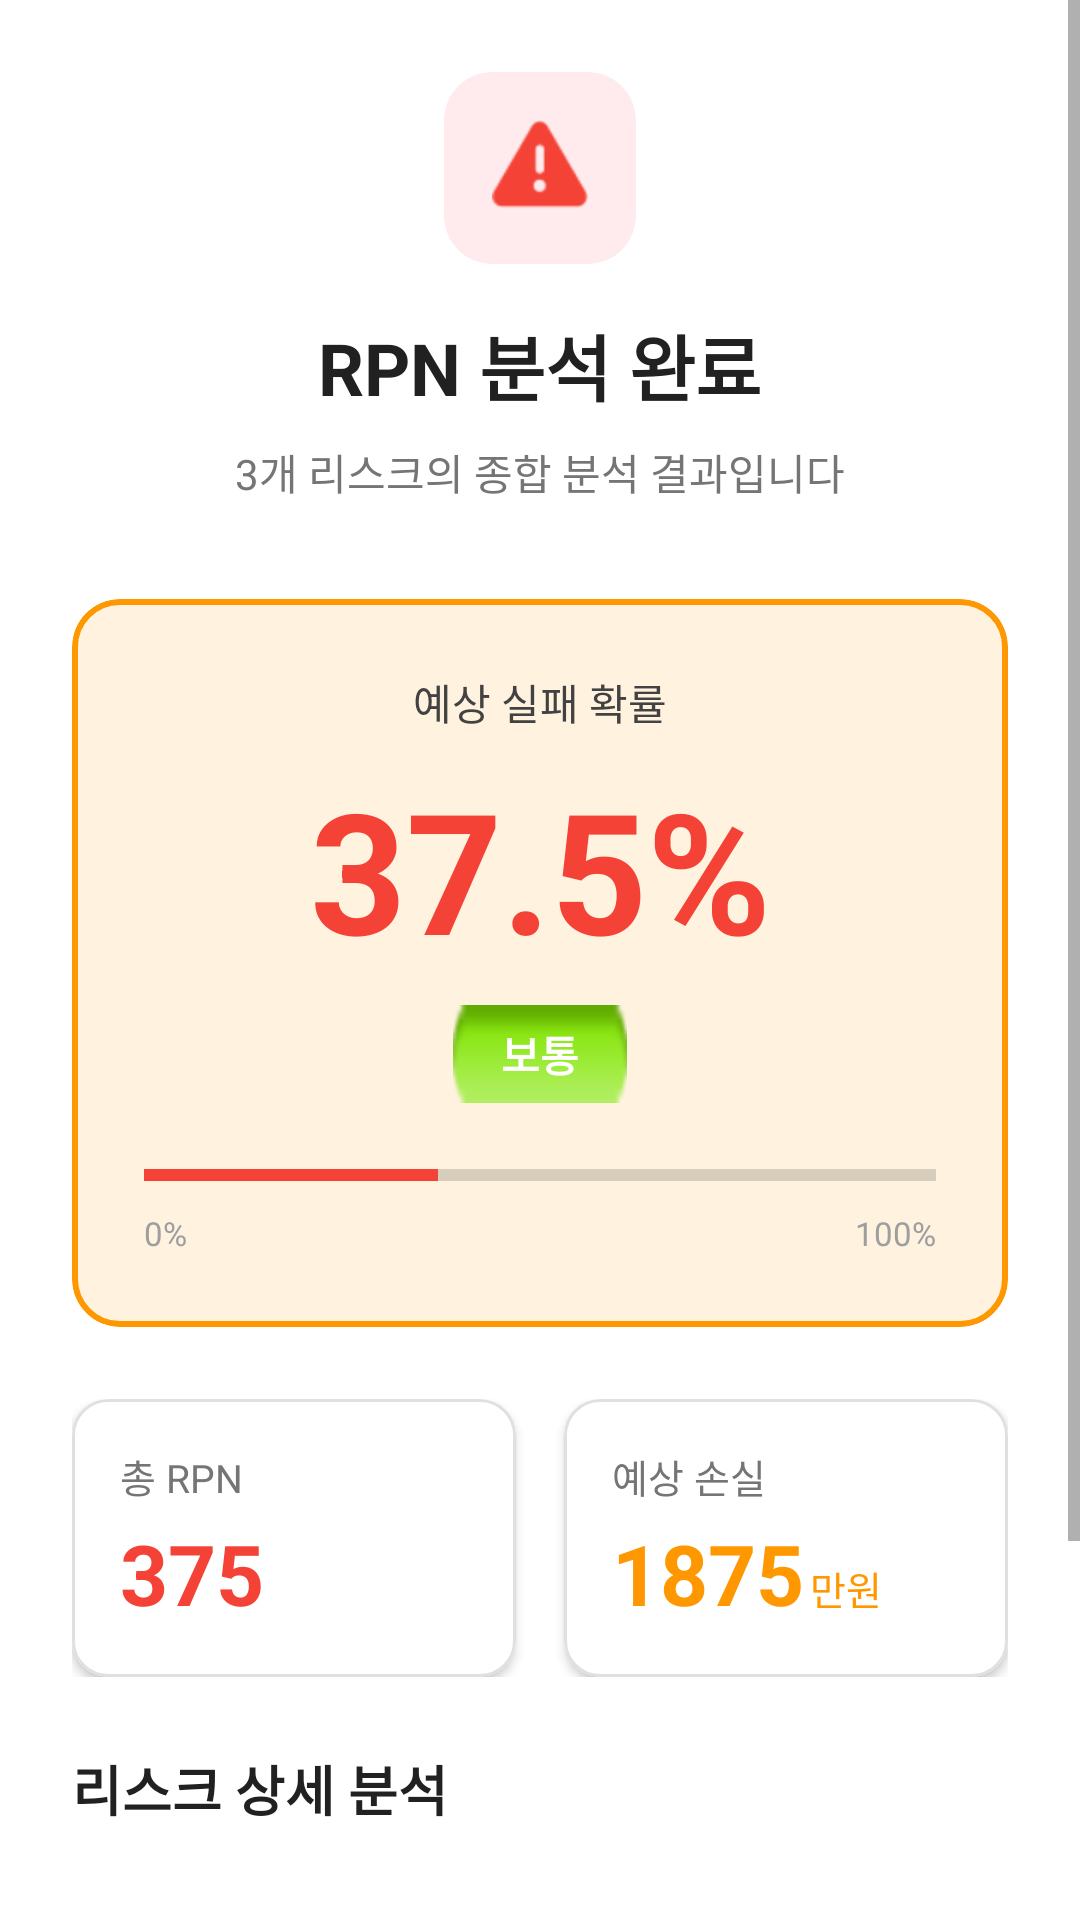

Screen size 1080×1920. Icon name, then its center in pixels as [x,y]:
alert: [540,164]
